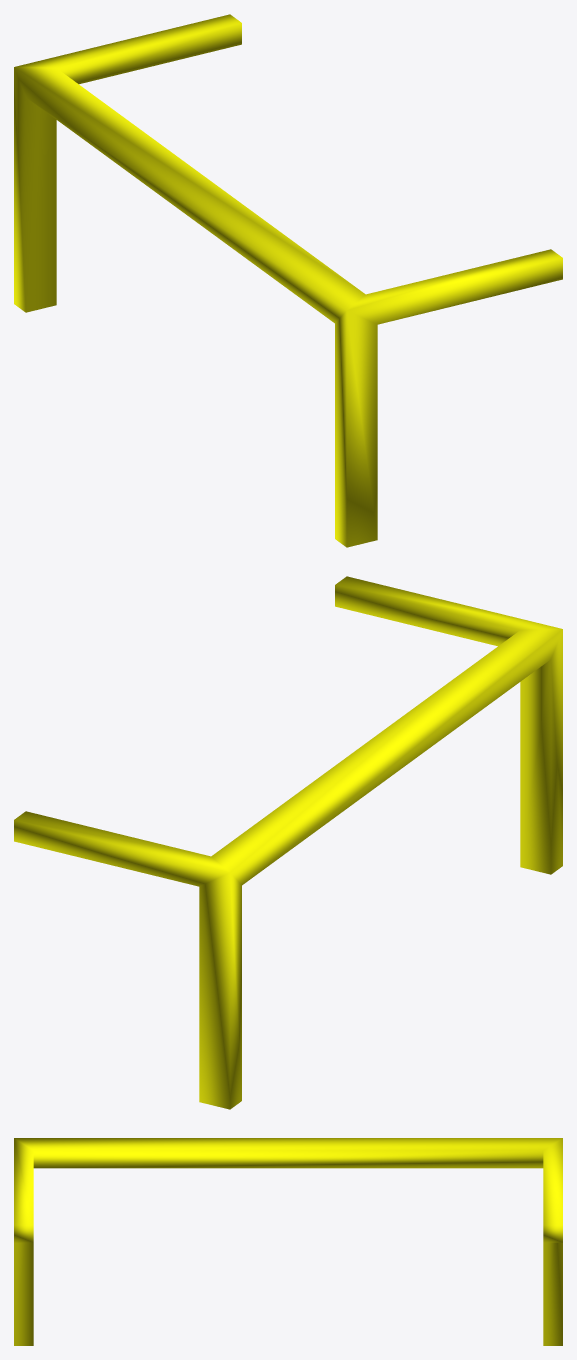
The model's file is Goalsallyback.006.dae.
3 renders of one model, top to bottom at view 1: azimuth 30°, elevation 25°; view 2: azimuth 150°, elevation 25°; view 3: azimuth 270°, elevation 25°, orthographic. The views are drawn at different scales.
Parts seen in each view (by area): view 1: collision_0_field_1_6; view 2: collision_0_field_1_6; view 3: collision_0_field_1_6.
Part boxes in pixels (x1,y1,x2,y2): collision_0_field_1_6: [14, 14, 562, 547]; collision_0_field_1_6: [14, 576, 562, 1109]; collision_0_field_1_6: [14, 1138, 562, 1345].
Bounding box in the file's own units: 1.39 × 3.71 × 1.46.
